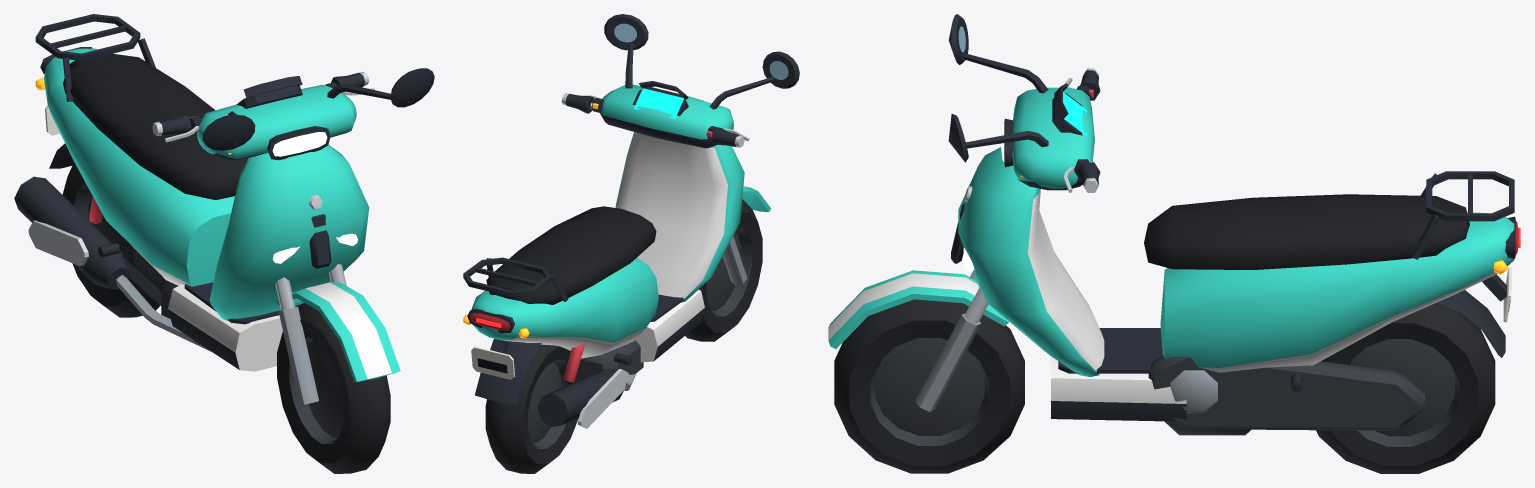
The model's file is bike_scooter.glb.
3 views of the same model, side by side, from view 1: azimuth 30°, elevation 25°; view 2: azimuth 150°, elevation 25°; view 3: azimuth 270°, elevation 25° (orthographic). The views are drawn at different scales.
Visible parts, largest first — view 1: frame, steer, wheel_F, wheel_R, mirror_L, mirror_R; view 2: frame, steer, wheel_R, wheel_F, mirror_L, mirror_R, dash; view 3: frame, wheel_F, wheel_R, steer, mirror_R, mirror_L.
Part boxes in pixels (left/top/right/bottom): frame: left=14, top=14, right=369, bottom=371; steer: left=152, top=72, right=400, bottom=405; wheel_F: left=277, top=303, right=390, bottom=473; wheel_R: left=62, top=162, right=166, bottom=317; mirror_L: left=327, top=68, right=434, bottom=107; mirror_R: left=202, top=111, right=255, bottom=150; frame: left=463, top=132, right=744, bottom=428; steer: left=561, top=81, right=771, bottom=285; wheel_R: left=485, top=344, right=583, bottom=473; wheel_F: left=685, top=199, right=762, bottom=341; mirror_L: left=604, top=14, right=648, bottom=88; mirror_R: left=709, top=51, right=799, bottom=109; dash: left=634, top=88, right=683, bottom=118; frame: left=951, top=147, right=1520, bottom=435; wheel_F: left=834, top=299, right=1024, bottom=473; wheel_R: left=1316, top=302, right=1495, bottom=473; steer: left=828, top=68, right=1100, bottom=411; mirror_R: left=948, top=14, right=1048, bottom=93; mirror_L: left=948, top=114, right=1048, bottom=162.
Bounding box in the file's own units: 0.8008 × 1.21 × 1.88.
